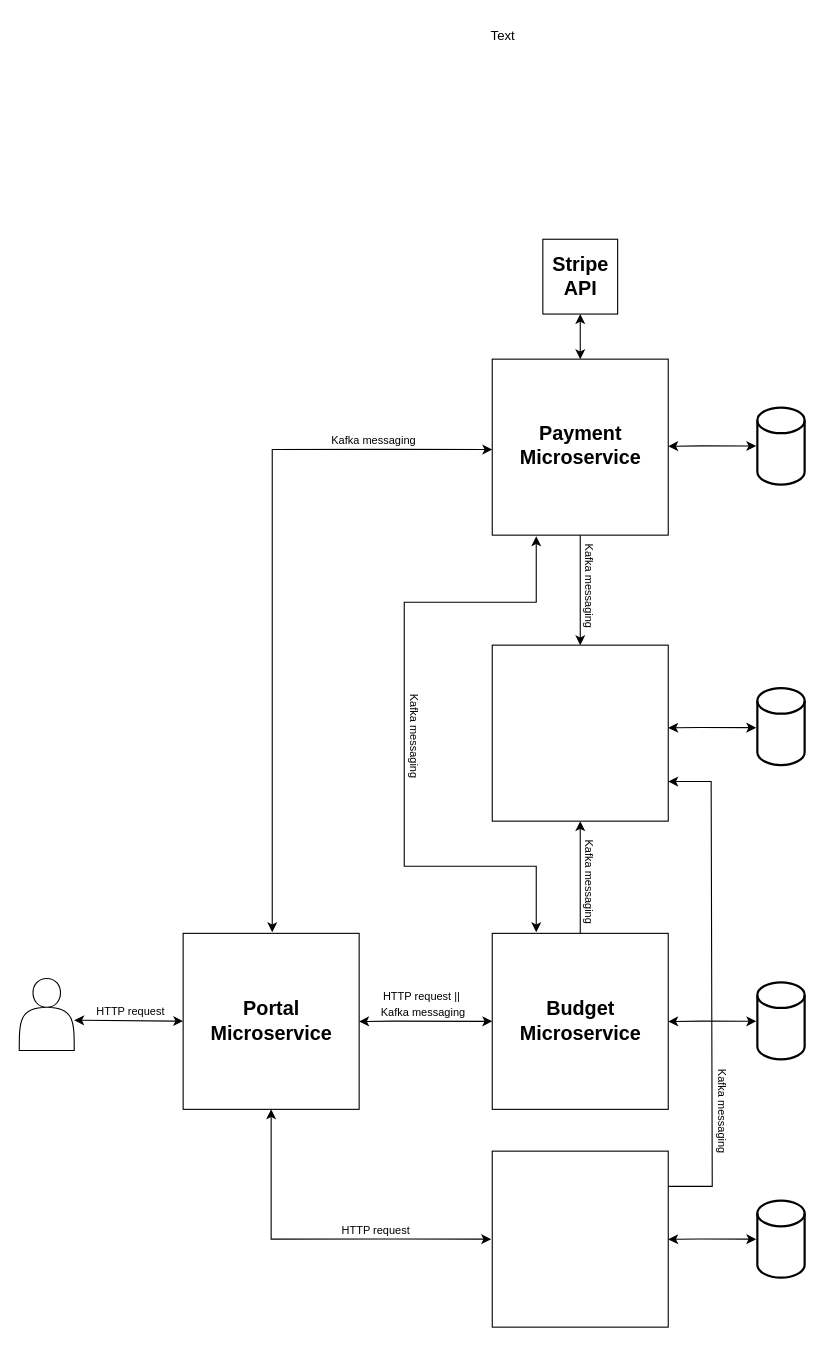
This 825x1346 diagram has some shape labels left out. Here are the shapes that lost their labels. From the top down, the box of each, then its label:
(491, 644, 668, 821): Notification Microservice
(491, 1150, 668, 1327): Authentication Microservice
